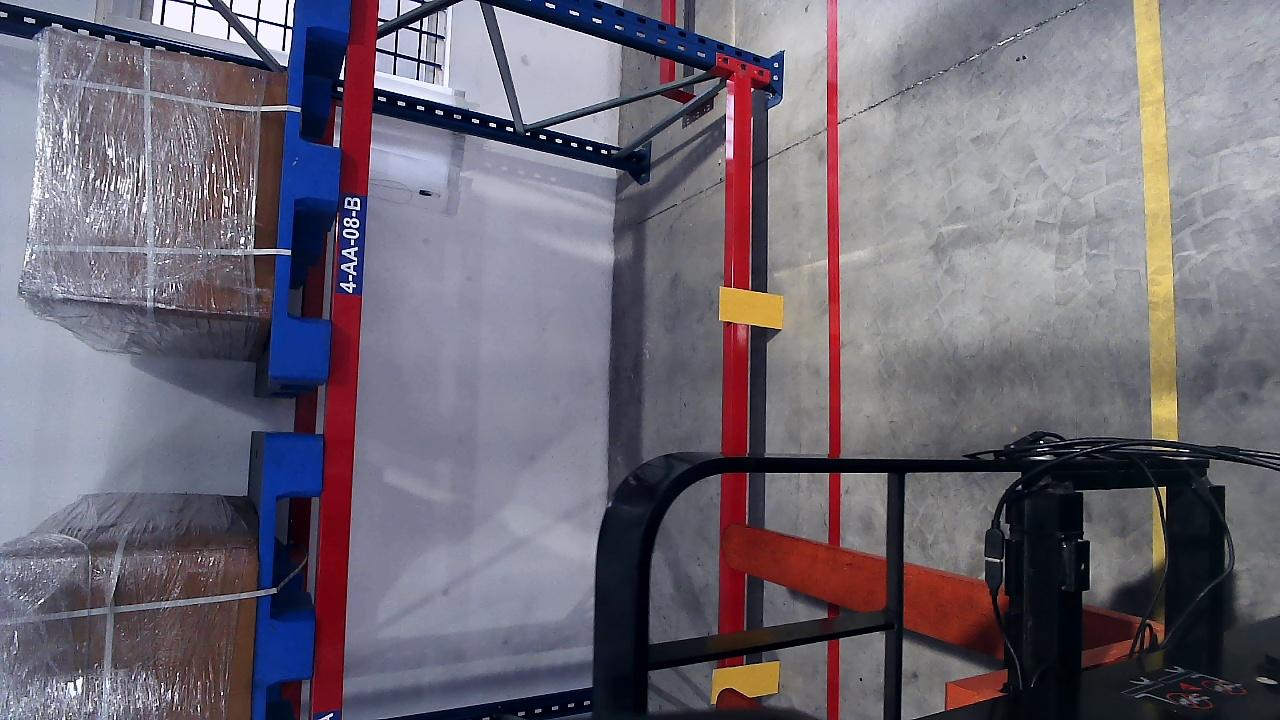h_rack: (342, 0, 372, 720), (725, 73, 758, 452)
orange_strip: (719, 285, 784, 328), (710, 661, 780, 697)
red_line: (822, 84, 844, 421)
small_pallet: (273, 1, 348, 372), (258, 438, 325, 720)
yellow_line: (1134, 0, 1180, 438)
